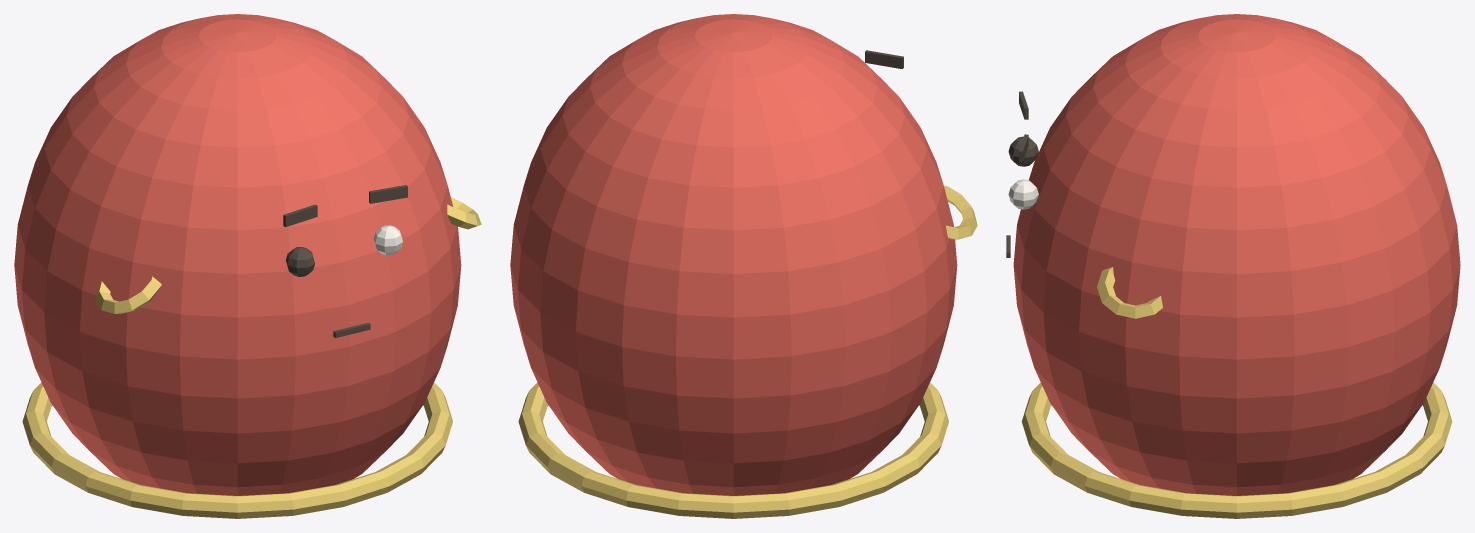
The model's file is daruma.glb.
3 views of the same model, side by side, from view 1: azimuth 30°, elevation 25°; view 2: azimuth 150°, elevation 25°; view 3: azimuth 270°, elevation 25° (orthographic).
Visible parts, largest first — view 1: daruma; view 2: daruma; view 3: daruma.
Boxes of the visible parts, x1=… form: daruma: x1=14, y1=14, x2=481, y2=518; daruma: x1=510, y1=14, x2=977, y2=518; daruma: x1=1006, y1=14, x2=1460, y2=518.
Bounding box in the file's own units: 0.44 × 0.506 × 0.447.
